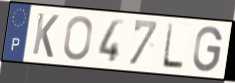4: (96, 17, 123, 65)
7: (129, 17, 160, 68)
G: (192, 25, 225, 74)
K: (30, 11, 61, 60)
L: (160, 22, 186, 72)
O: (62, 14, 94, 62)
